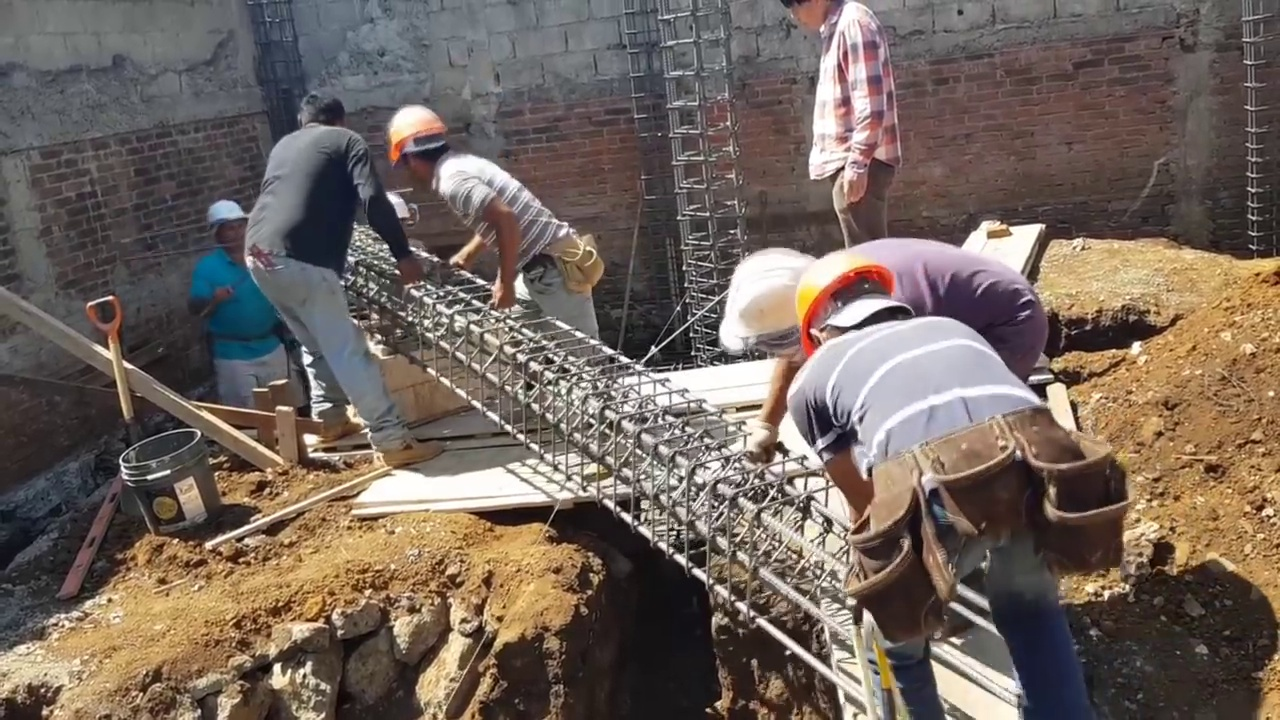helmet: (728, 248, 823, 354), (793, 264, 894, 349), (381, 106, 443, 160), (201, 198, 249, 231)
helmet-off: (779, 0, 845, 35), (295, 91, 340, 130)
helmet-on: (723, 238, 831, 370), (793, 260, 922, 361), (383, 107, 457, 190), (204, 198, 247, 258)
person: (786, 262, 1097, 718), (720, 235, 1048, 464), (246, 84, 426, 460), (381, 104, 601, 355), (782, 0, 900, 264), (186, 190, 310, 414)
